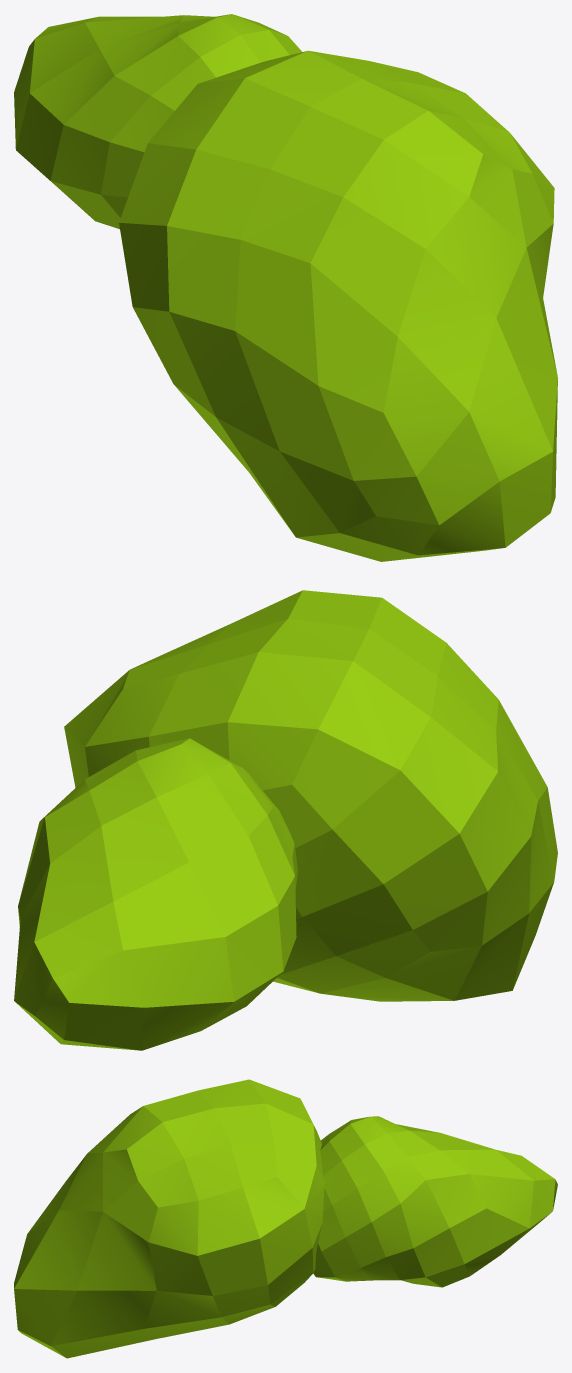
File: tree_big_5_round.fbx
3 renders of one model, top to bottom at view 1: azimuth 30°, elevation 25°; view 2: azimuth 150°, elevation 25°; view 3: azimuth 270°, elevation 25°, orthographic. The views are drawn at different scales.
Parts seen in each view (by area): view 1: tree_big_5_round; view 2: tree_big_5_round; view 3: tree_big_5_round.
Part boxes in pixels (x1,y1,x2,y2): tree_big_5_round: [14, 14, 557, 561]; tree_big_5_round: [14, 590, 557, 1050]; tree_big_5_round: [14, 1079, 557, 1358].
Bounding box in the file's own units: 138 × 136 × 261.
